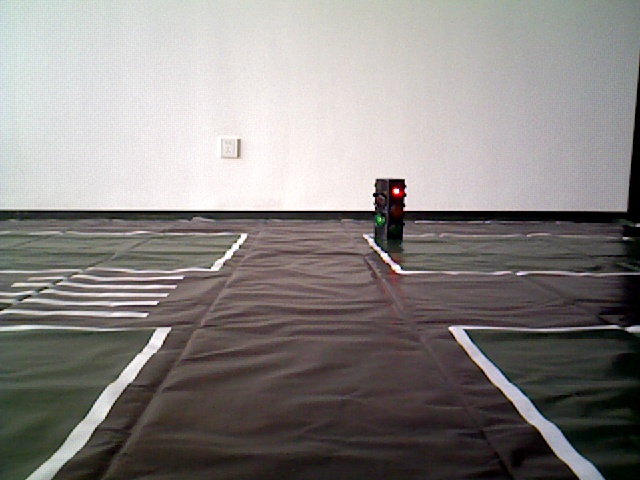red: (374, 180, 405, 251)
